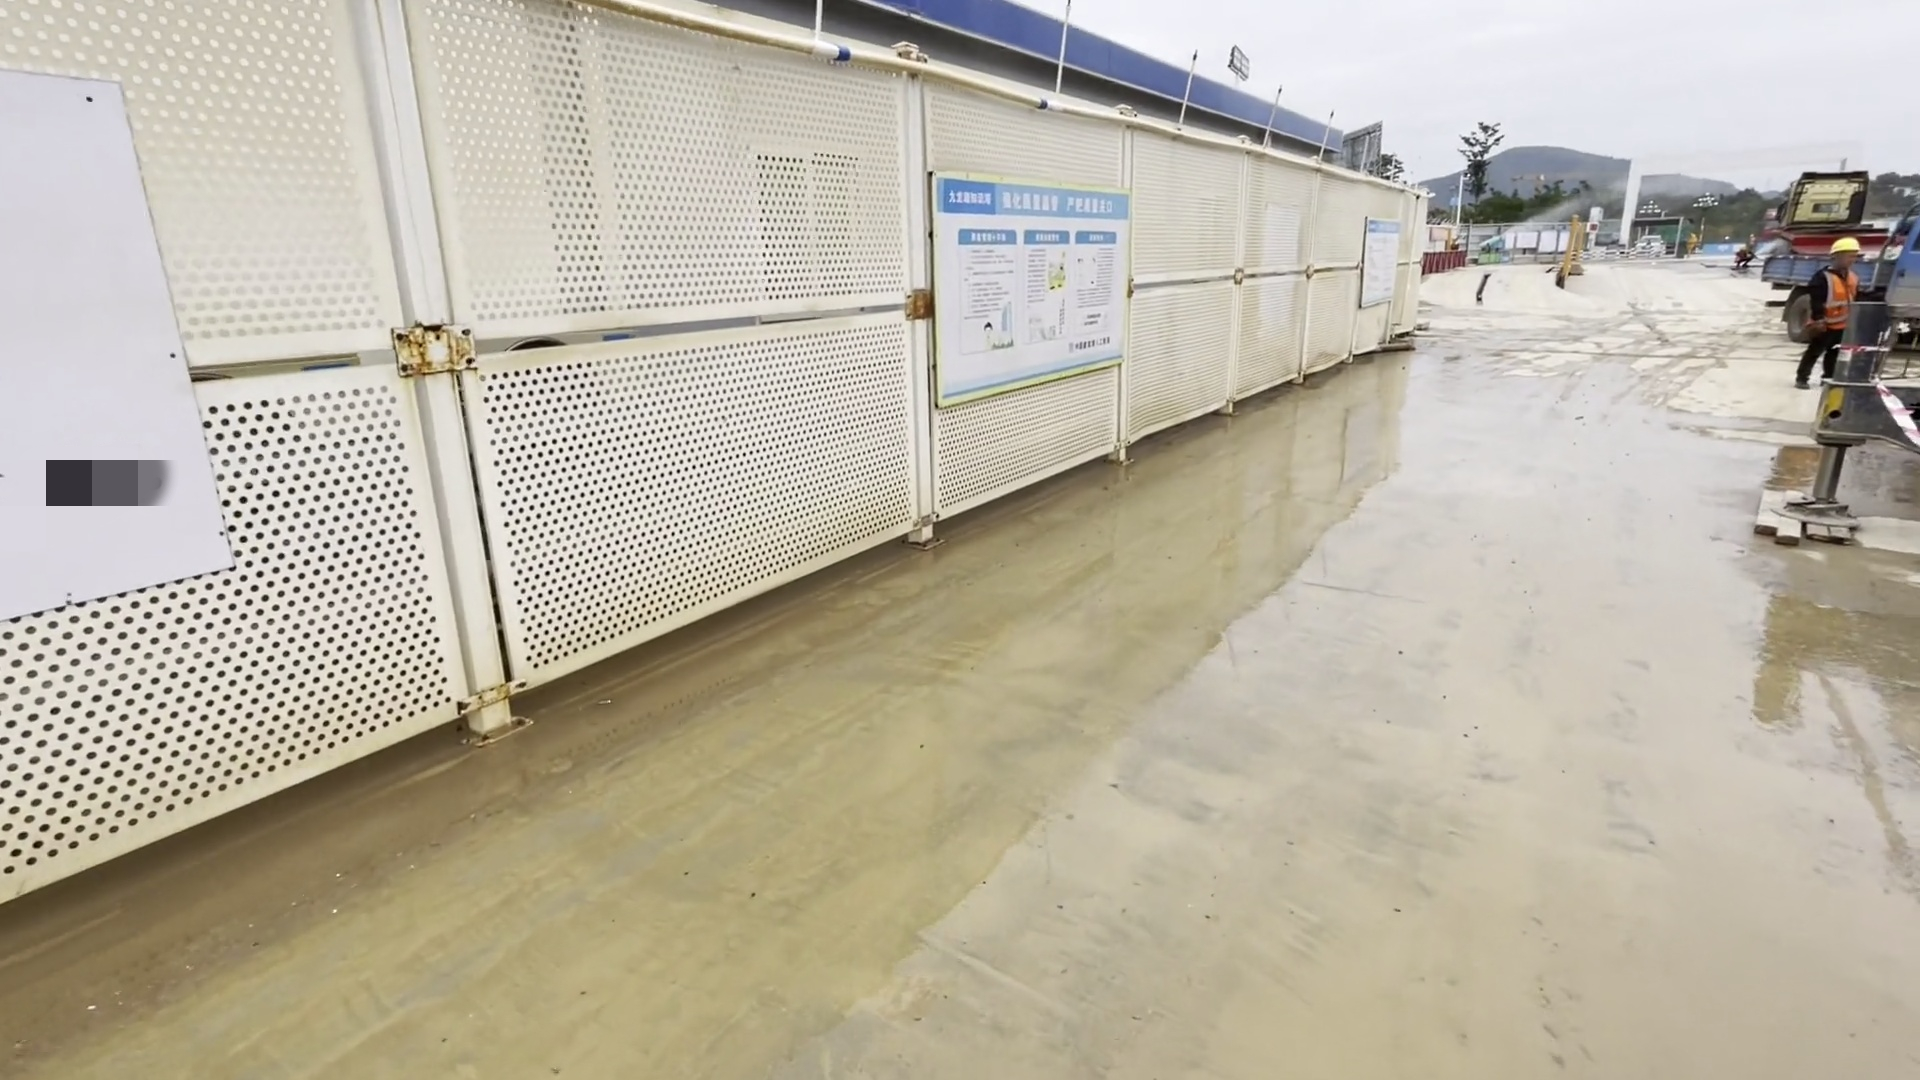slogan: (916, 162, 1138, 409)
